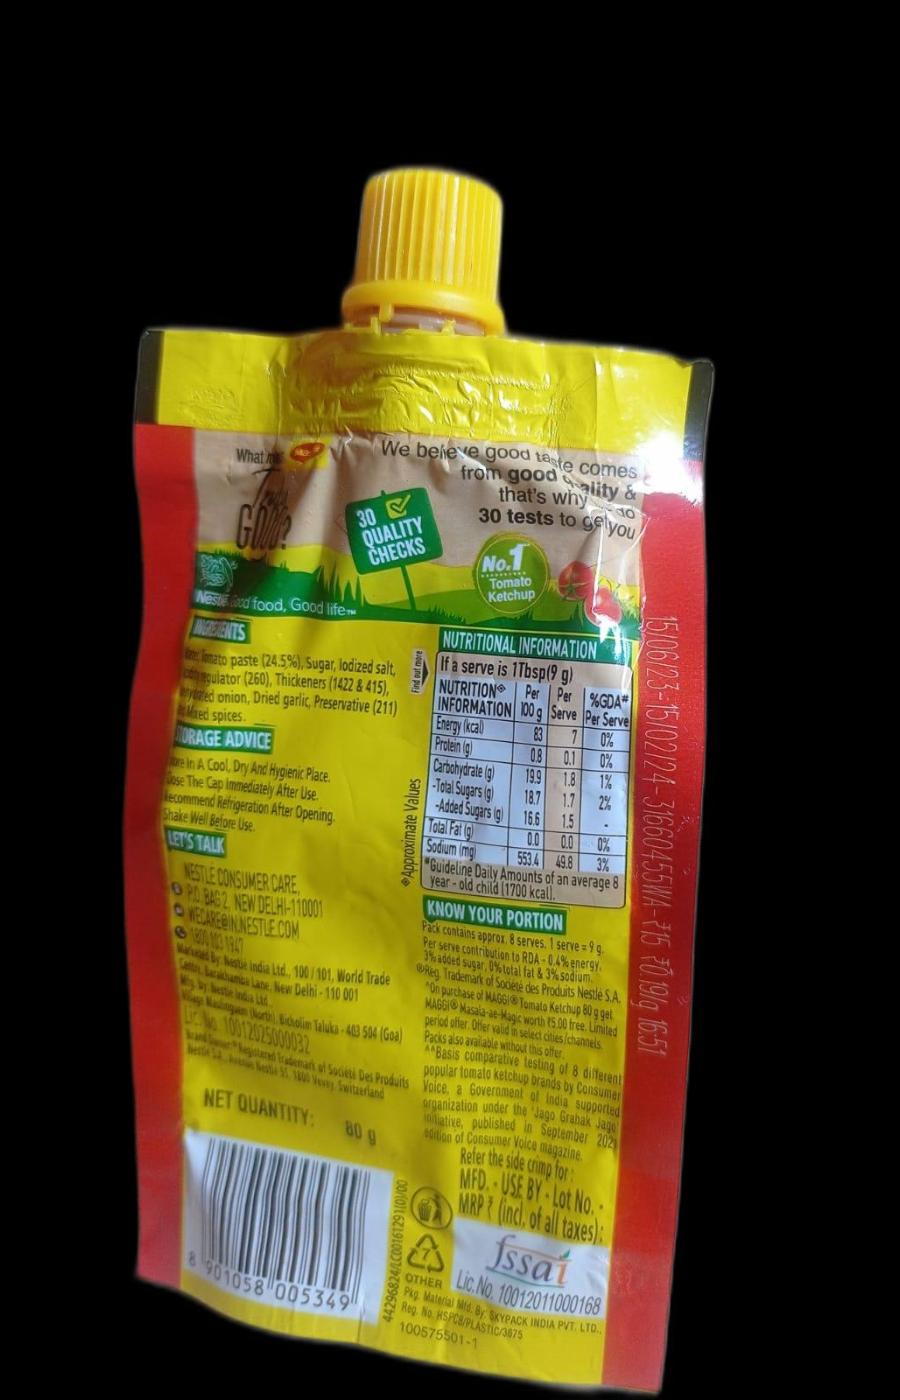MAGGI Pichkoo - Rich Tomato Ketchup 80 g Pouch: (131, 145, 713, 1399)
